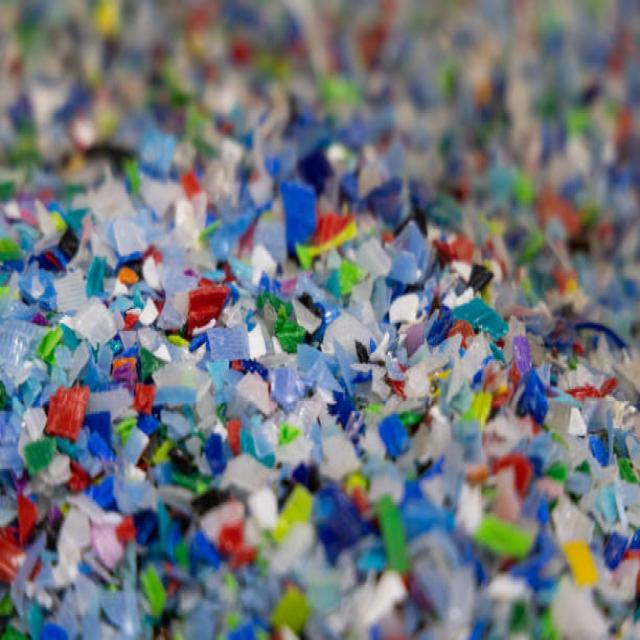plastic: (23, 260, 629, 623)
